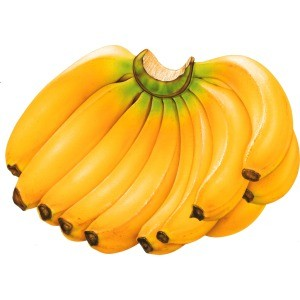banana_brain food: (55, 114, 267, 249)
